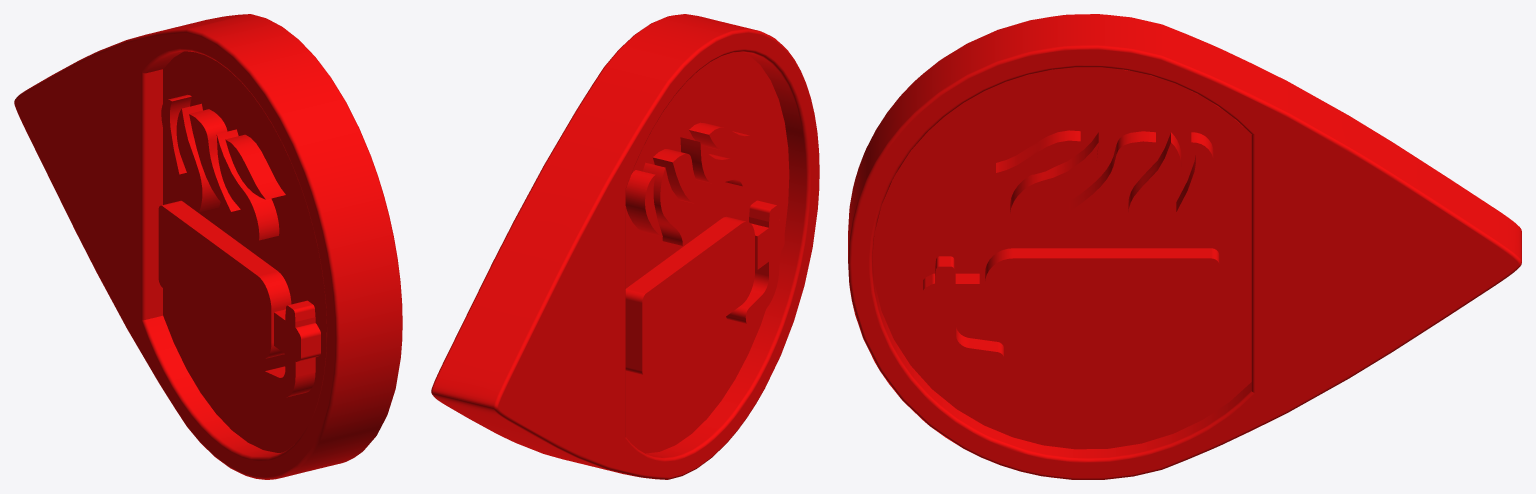
File: ICONO 14.fbx
The picture shows the model from 3 angles, left to right: view 1: azimuth 30°, elevation 25°; view 2: azimuth 150°, elevation 25°; view 3: azimuth 270°, elevation 25°; orthographic projection. The views are drawn at different scales.
Parts seen in each view (by area): view 1: Body68; view 2: Body68; view 3: Body68.
Boxes of the visible parts, x1,y1,x2,y2 form: Body68: [14, 14, 402, 479]; Body68: [431, 14, 819, 479]; Body68: [848, 14, 1521, 479].
Bounding box in the file's own units: 112 × 675 × 947.
